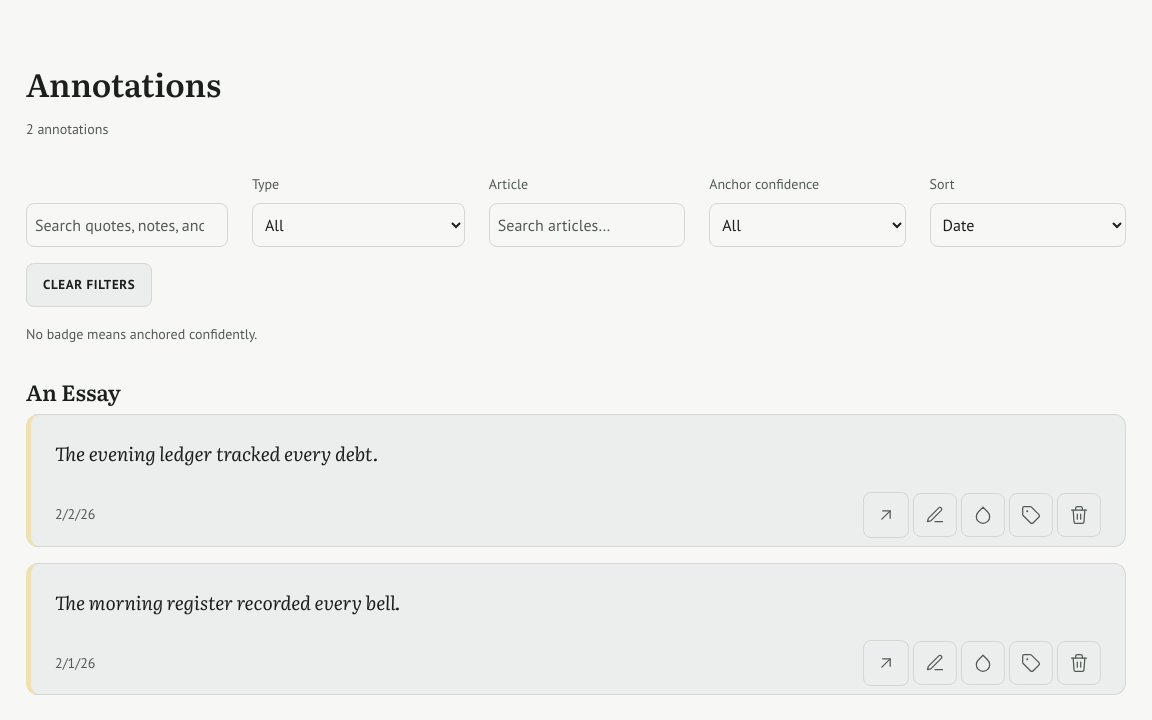
ReviewView removal routing (issue #174 — proportional delete) › a FAILED immediate removal announces the shared failure copy + never invalidates
The image size is (1152, 720).
Click the button named "Remove highlight: The evening ledger tracked every debt." at (1079, 515), box [1057,493,1101,537]
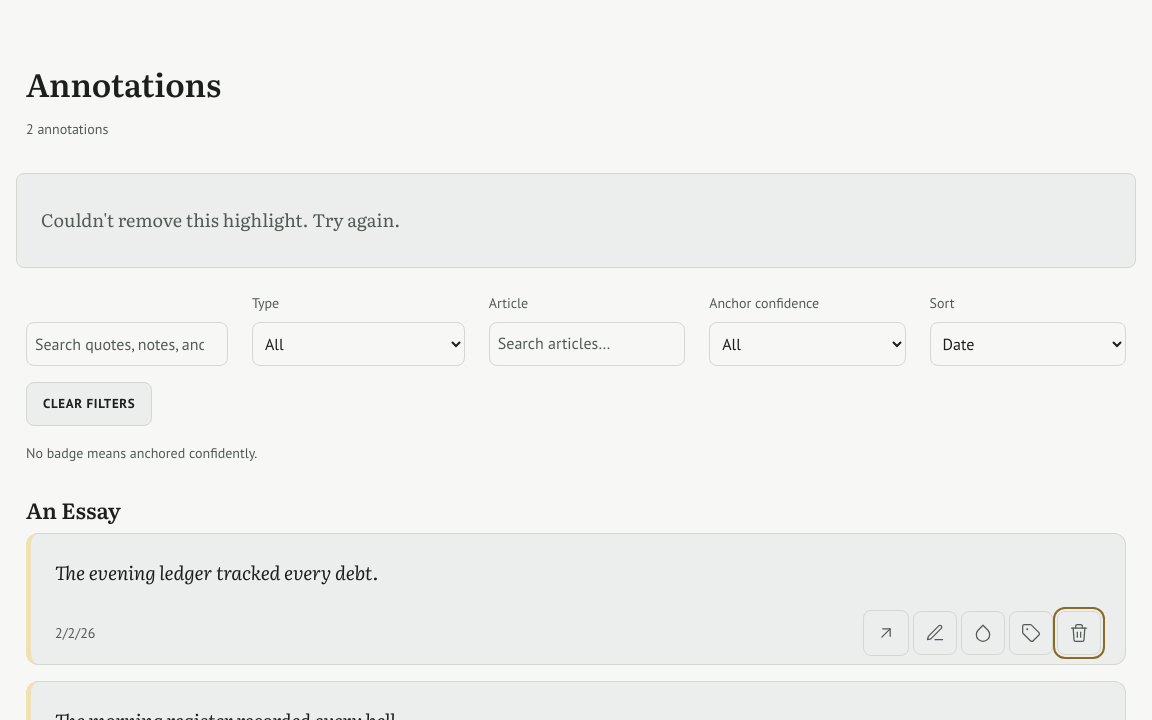
Check: the text "Couldn't remove this highlight. Try again." is shown, box [41,206,400,233]
